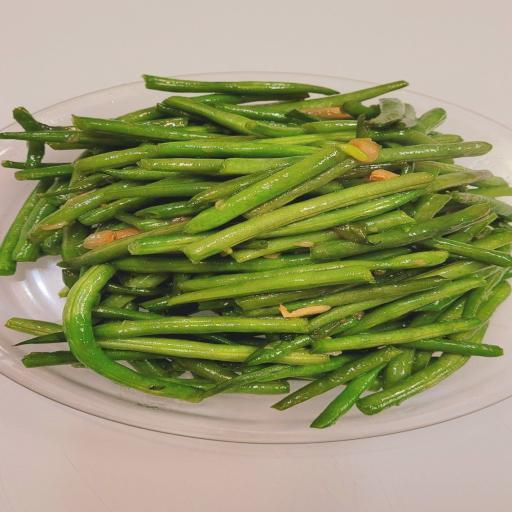buncis_rebus: (4, 64, 512, 438)
